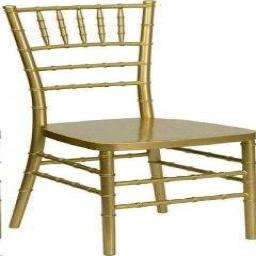Chair: (2, 5, 256, 256)
